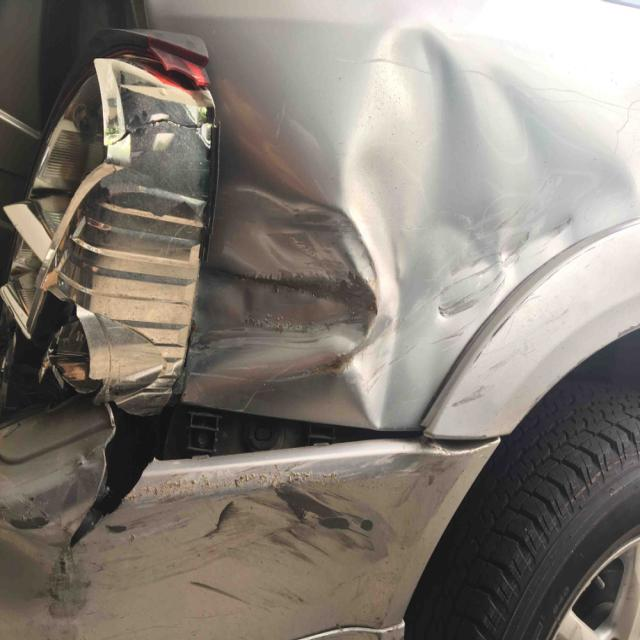crack: (70, 405, 151, 548)
dent: (184, 24, 635, 428)
lamp broken: (0, 49, 216, 419)
scratch: (0, 470, 402, 640), (455, 278, 571, 408)
